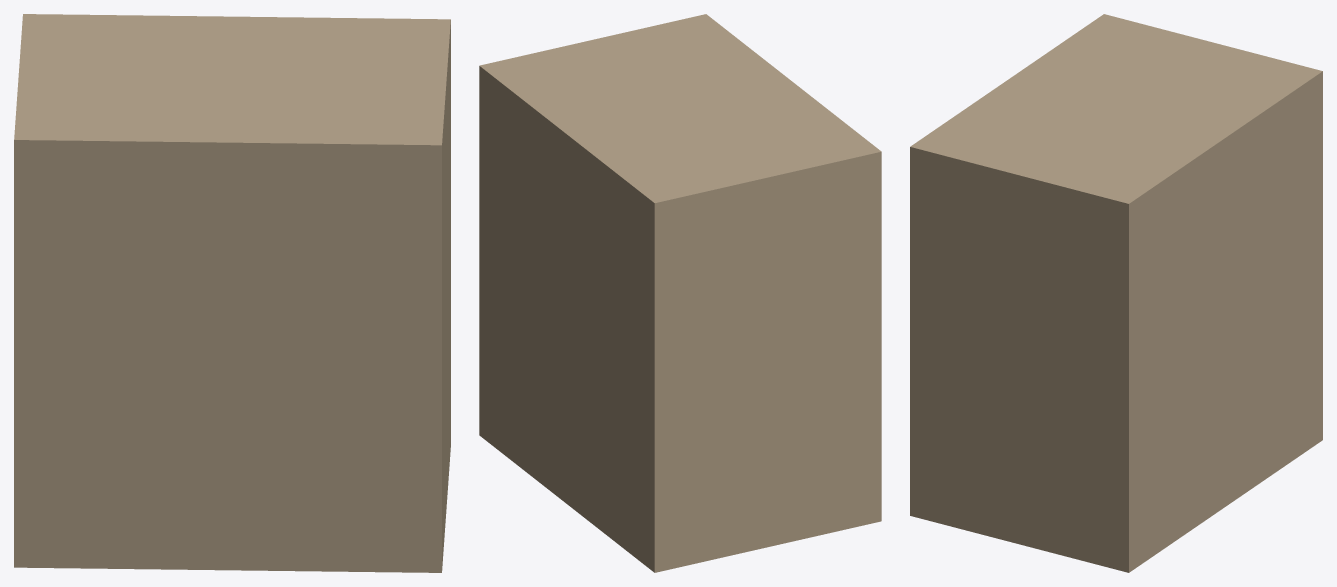
Rendered from bld_98868848.dae.
The picture shows the model from 3 angles, left to right: view 1: azimuth 30°, elevation 25°; view 2: azimuth 150°, elevation 25°; view 3: azimuth 270°, elevation 25°; orthographic projection. The views are drawn at different scales.
Visible parts, largest first — view 1: bld_98868848; view 2: bld_98868848; view 3: bld_98868848.
Part boxes in pixels (x1,y1,x2,y2): bld_98868848: (14, 14, 450, 572); bld_98868848: (479, 14, 881, 572); bld_98868848: (910, 14, 1322, 572).
Bounding box in the file's own units: 8.83 × 8.11 × 8.
